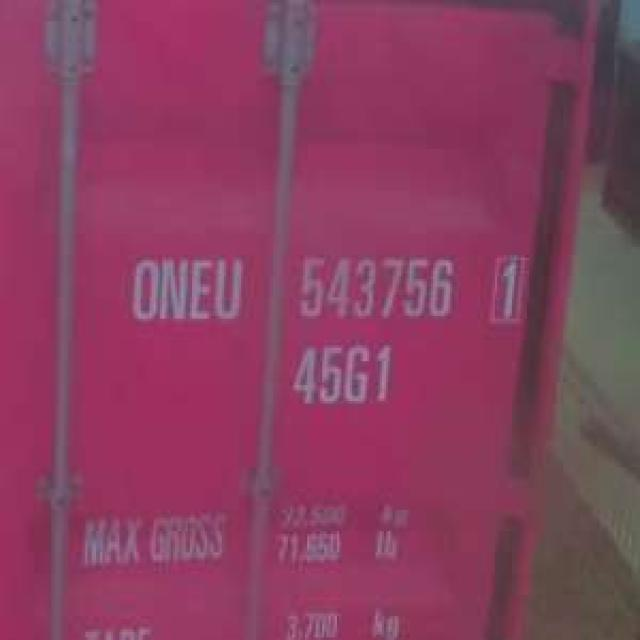dv: (484, 249, 529, 326)
owner: (126, 252, 246, 330)
serial: (294, 251, 456, 326)
size: (287, 339, 400, 411)
